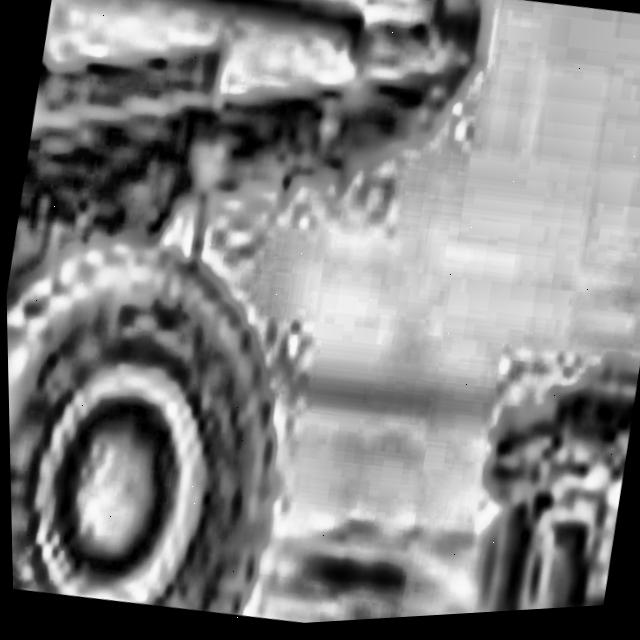dump_truck: (0, 0, 512, 640), (448, 303, 640, 619)
